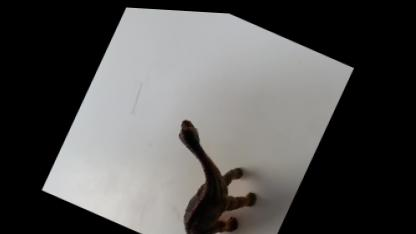brontosaurus: (132, 111, 283, 233)
